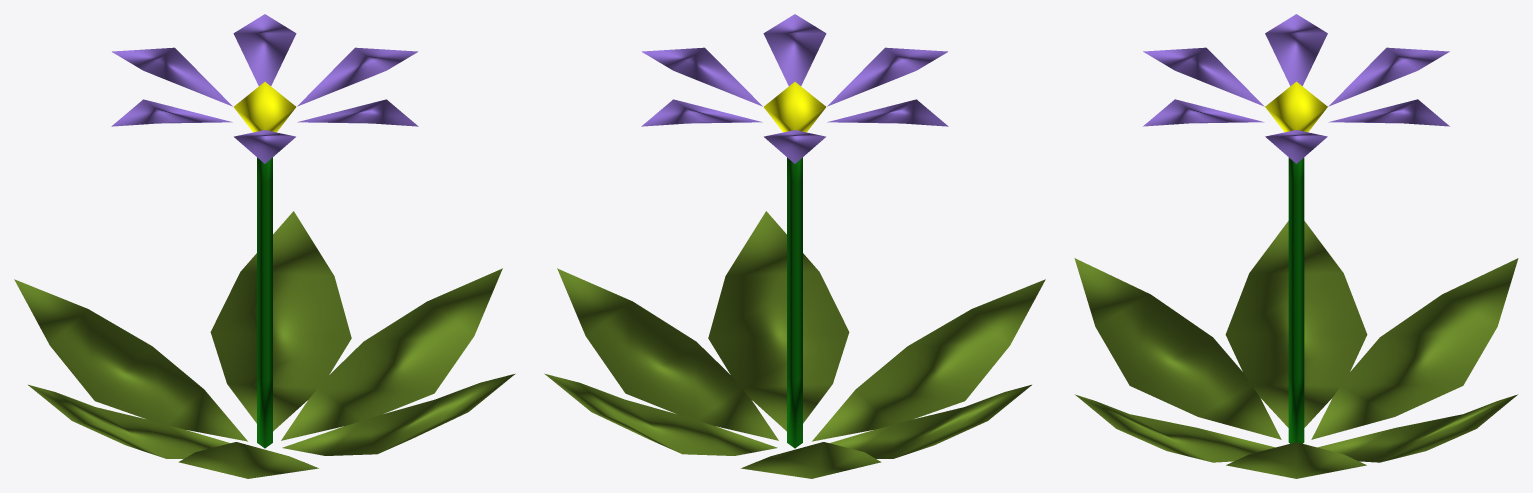
File: hepatica_0003.obj
3 renders of one model, left to right at view 1: azimuth 30°, elevation 25°; view 2: azimuth 150°, elevation 25°; view 3: azimuth 270°, elevation 25°, orthographic.
Visible parts, largest first — view 1: hepatica_0003; view 2: hepatica_0003; view 3: hepatica_0003.
Part boxes in pixels (x1,y1,x2,y2): hepatica_0003: (14, 14, 515, 478); hepatica_0003: (544, 14, 1045, 478); hepatica_0003: (1074, 14, 1518, 478).
Bounding box in the file's own units: 3.02 × 2.2 × 2.44.
Materials: 1 (1 with a texture image).
